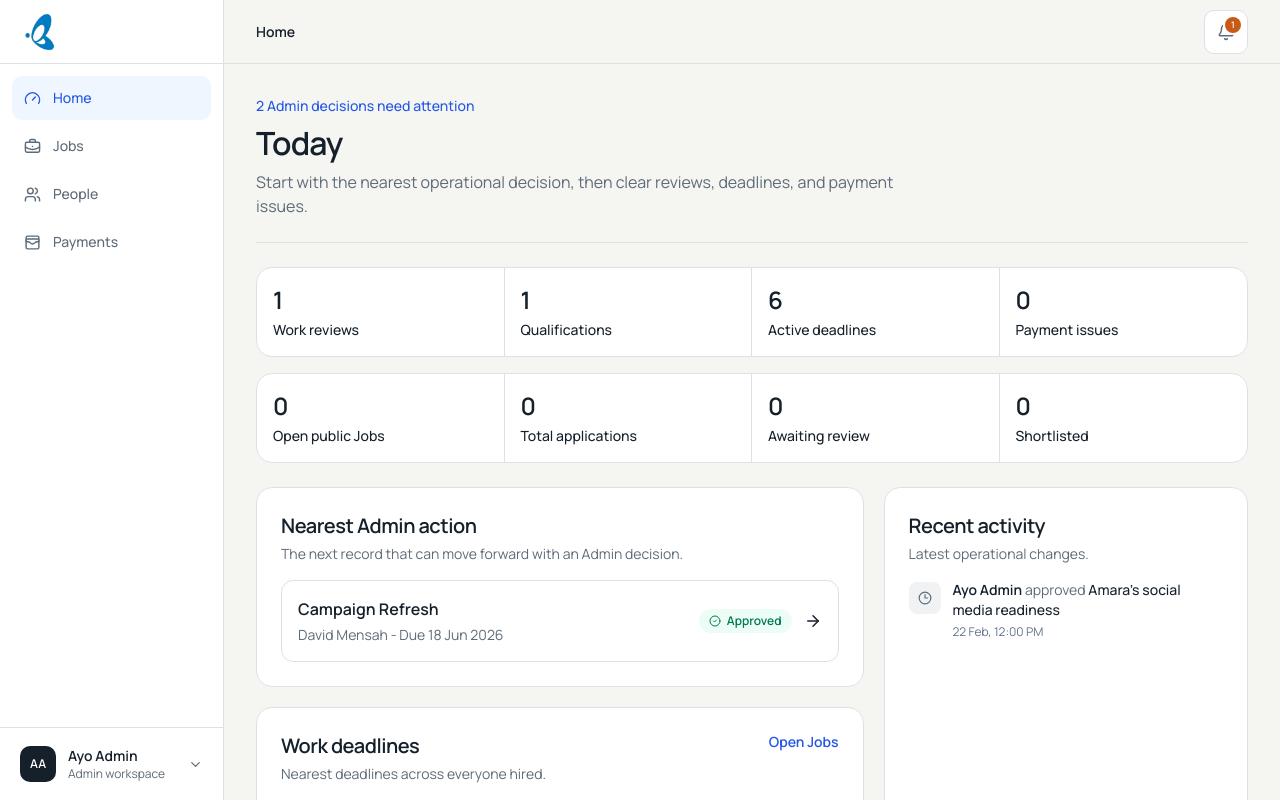
Test: application routing › keeps Admin navigation focused on the four operating areas
expect the link "Home" is shown: met, box top-left (12, 76), bottom-right (211, 120)
expect the link "Jobs" is shown: met, box top-left (24, 136), bottom-right (84, 155)
Click the button with aria-label "Open desktop user menu" at (112, 764), box top-left (12, 740), bottom-right (211, 788)
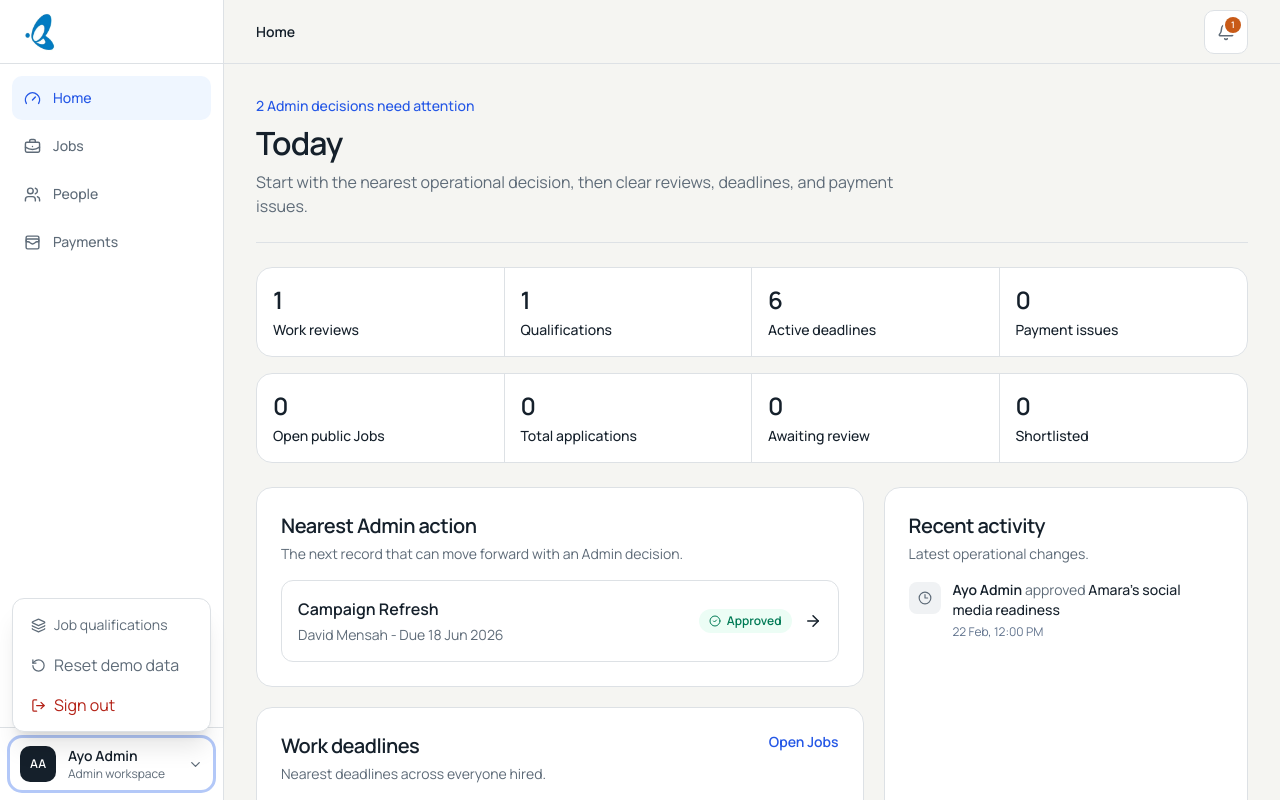
expect the link "Job qualifications" is shown: met, box top-left (31, 615), bottom-right (168, 634)
